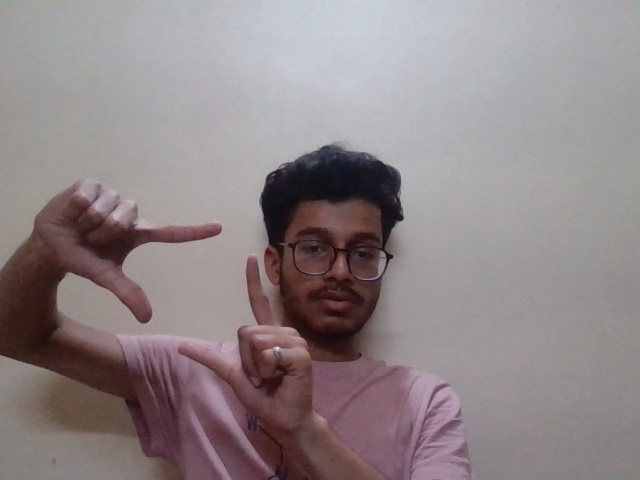video: (7, 172, 330, 424)
